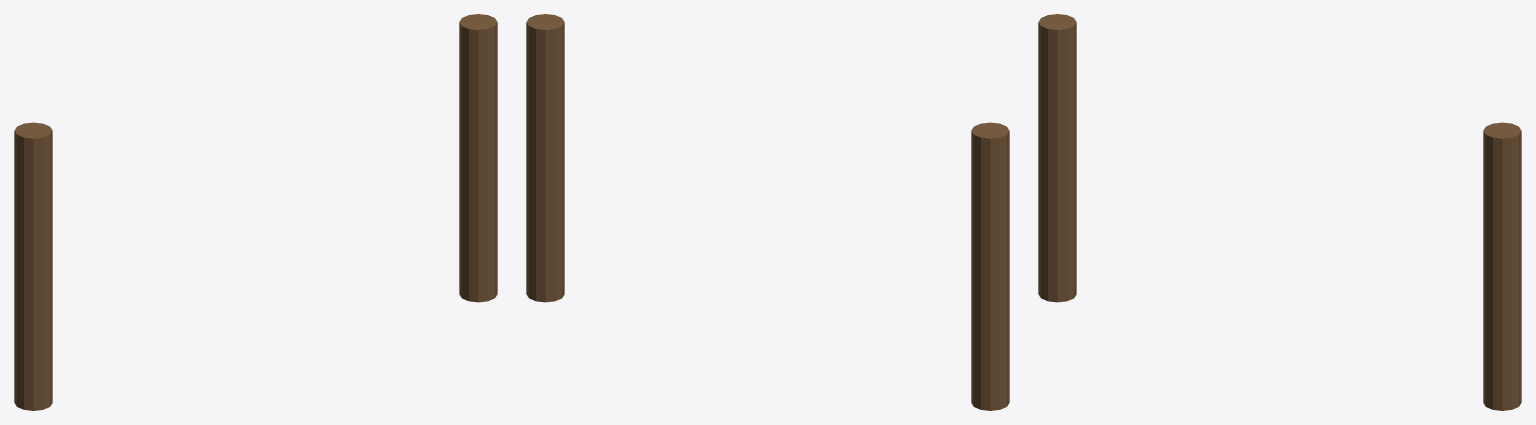
The model's file is fence posts.fbx.
3 views of the same model, side by side, from view 1: azimuth 30°, elevation 25°; view 2: azimuth 150°, elevation 25°; view 3: azimuth 330°, elevation 25° (orthographic).
Parts seen in each view (by area): view 1: fence posts; view 2: fence posts; view 3: fence posts.
Boxes of the visible parts, x1,y1,x2,y2 form: fence posts: [14, 14, 497, 410]; fence posts: [526, 14, 1009, 410]; fence posts: [1038, 14, 1521, 410].
Bounding box in the file's own units: 463 × 252 × 32.06.
